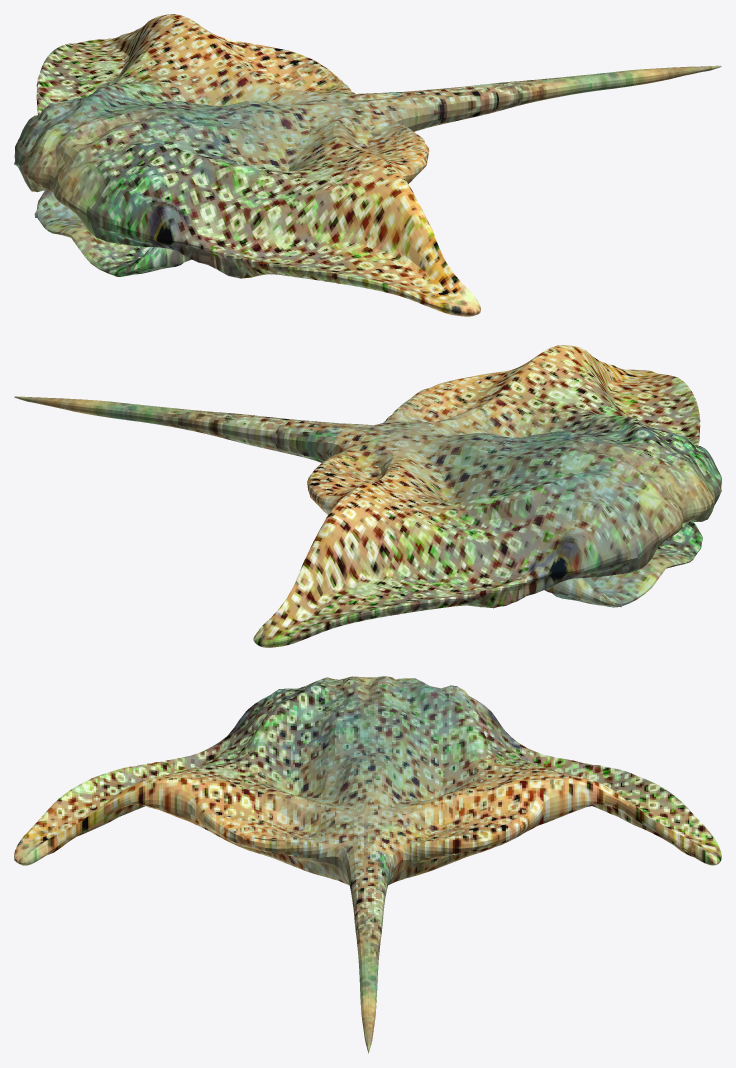
Rendered from flying-ray.glb.
The picture shows the model from 3 angles, top to bottom: view 1: azimuth 30°, elevation 25°; view 2: azimuth 150°, elevation 25°; view 3: azimuth 270°, elevation 25°; orthographic projection. The views are drawn at different scales.
Visible parts, largest first — view 1: flying-ray 2; view 2: flying-ray 2; view 3: flying-ray 2.
Boxes of the visible parts, box(x1,y1,x2,y2) form: flying-ray 2: box(14, 14, 721, 316); flying-ray 2: box(14, 345, 721, 647); flying-ray 2: box(14, 676, 721, 1053).
Size of the model in its own units: 12.83 by 2.32 by 12.15.
Materials: 1 (1 with a texture image).
